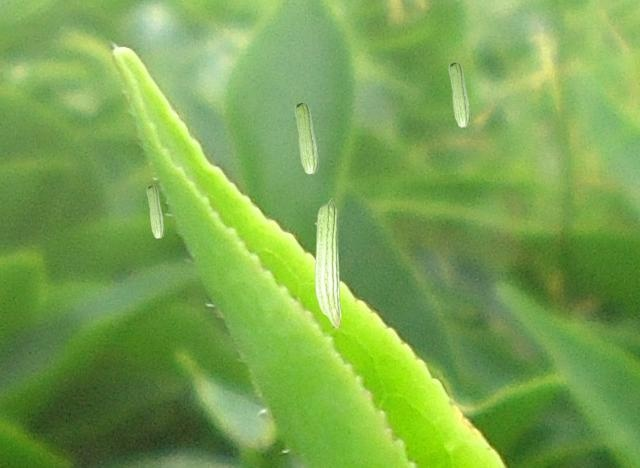ampalaya: (314, 197, 341, 329), (294, 101, 319, 174), (448, 61, 470, 127), (146, 184, 164, 238)
